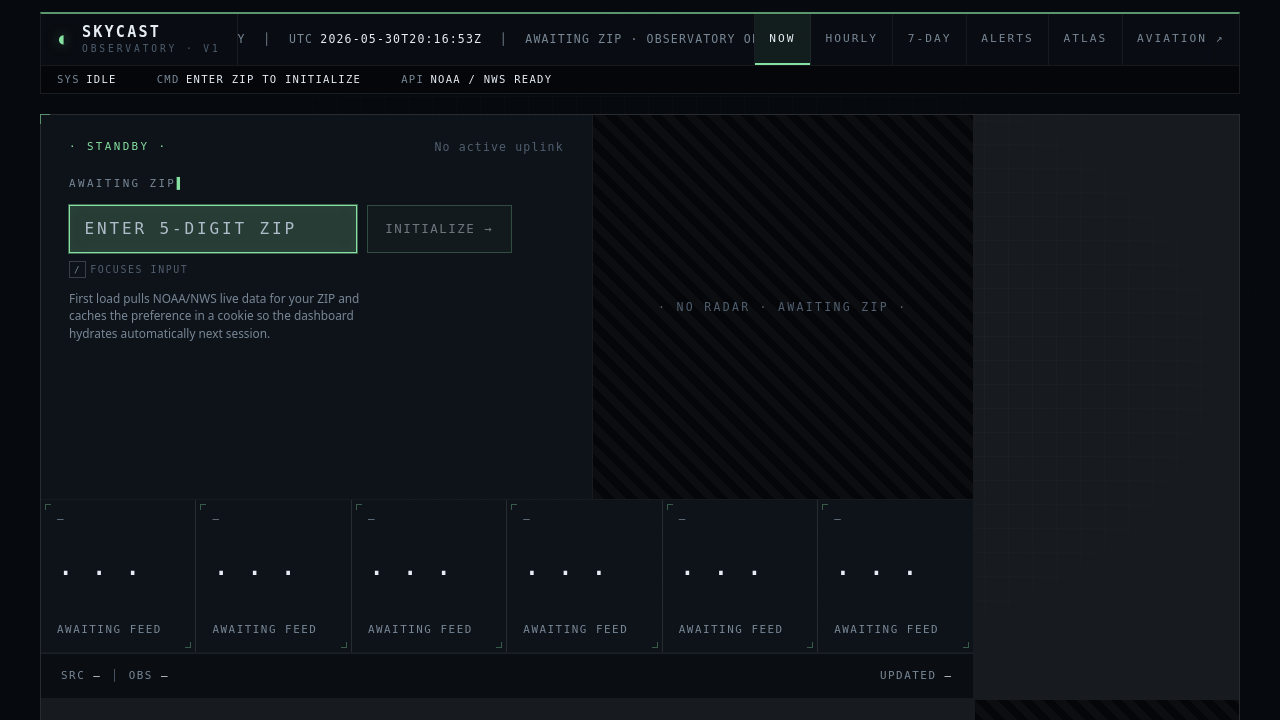
Scenario: App › saves a ZIP and renders the forecast dashboard
Type "60601" into the field named "ZIP code" at (213, 229), box [69,205,357,253]
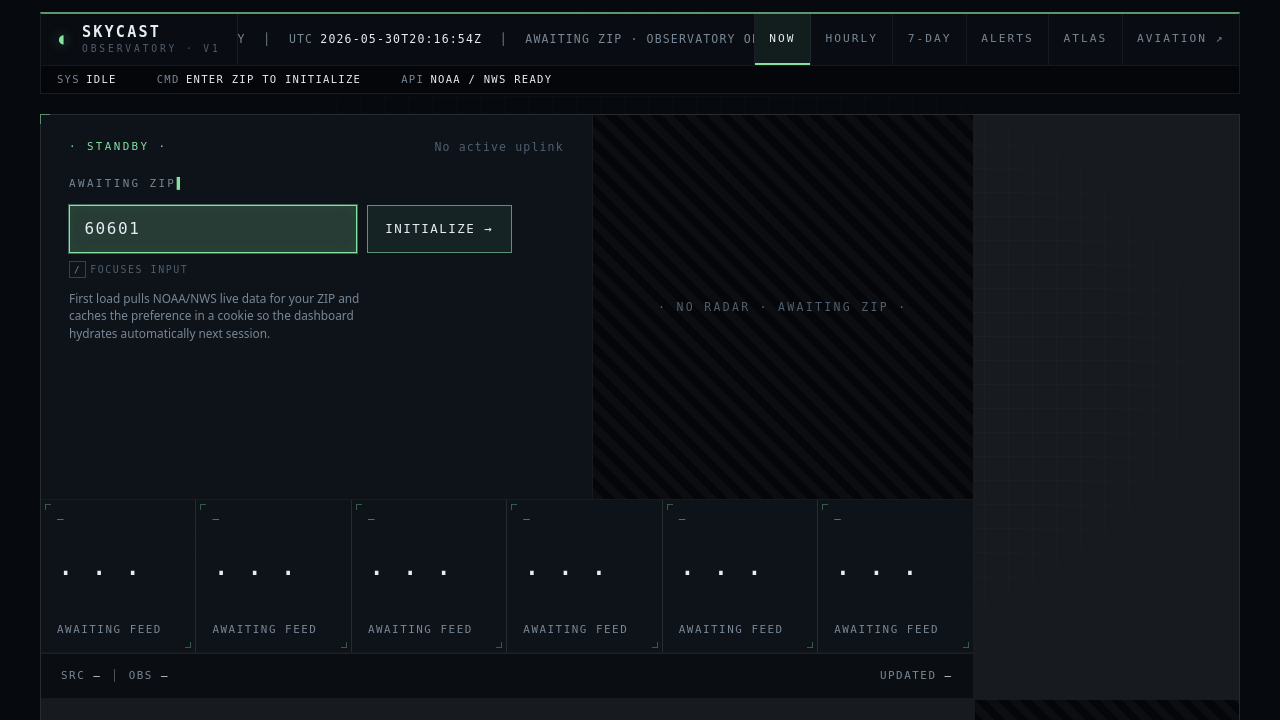
Click the button "Initialize →" at (439, 229), box [367,205,512,253]
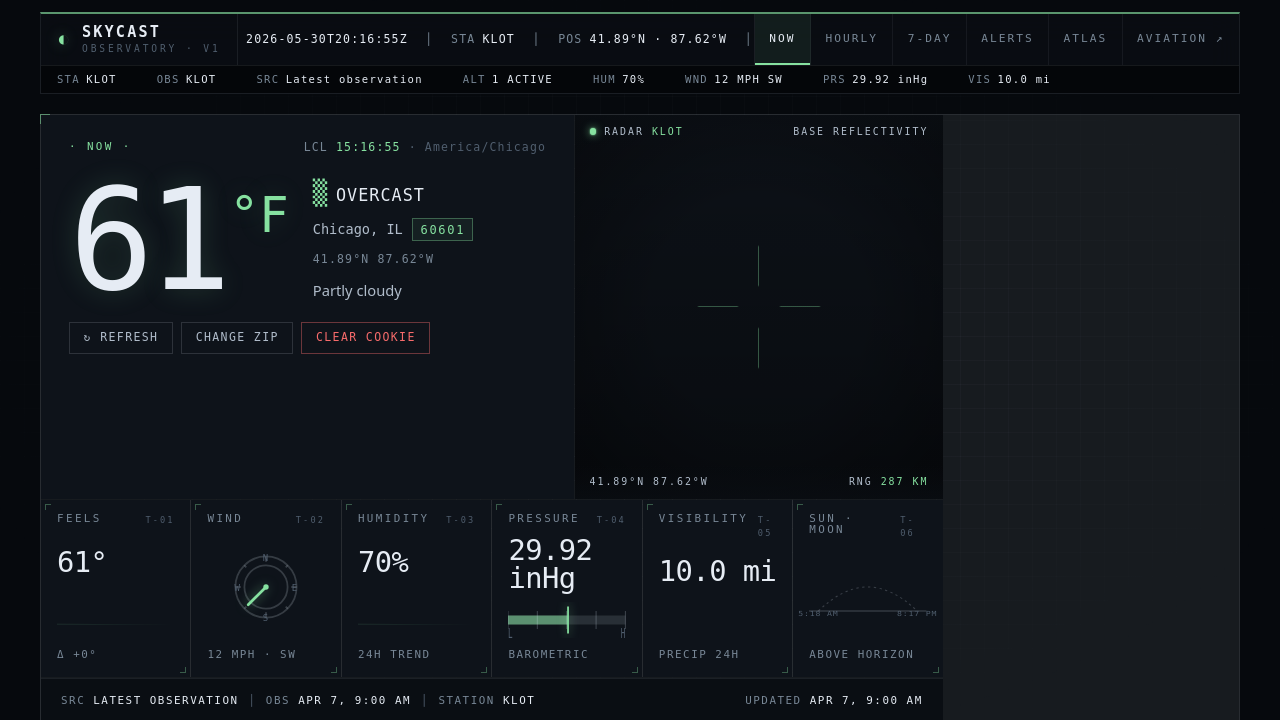
Expected: the text "Chicago, IL" is shown, [313,219,403,239]
